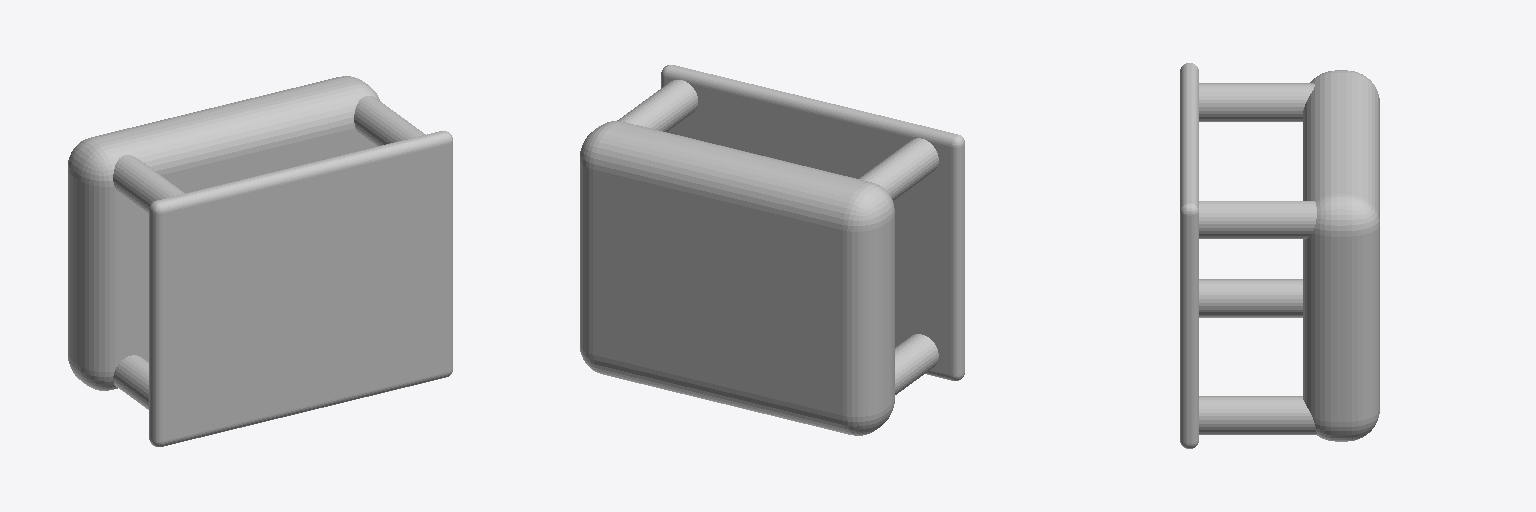
The model's file is bluerov2_phy.obj.
3 renders of one model, left to right at view 1: azimuth 30°, elevation 25°; view 2: azimuth 150°, elevation 25°; view 3: azimuth 270°, elevation 25°, orthographic.
Parts seen in each view (by area): view 1: Cube_Cube.001; view 2: Cube_Cube.001; view 3: Cube_Cube.001.
Part boxes in pixels (left/top/right/bottom): Cube_Cube.001: left=68, top=76, right=452, bottom=446; Cube_Cube.001: left=580, top=65, right=964, bottom=435; Cube_Cube.001: left=1180, top=63, right=1379, bottom=448.
Size of the model in its own units: 0.45 by 0.35 by 0.2592.